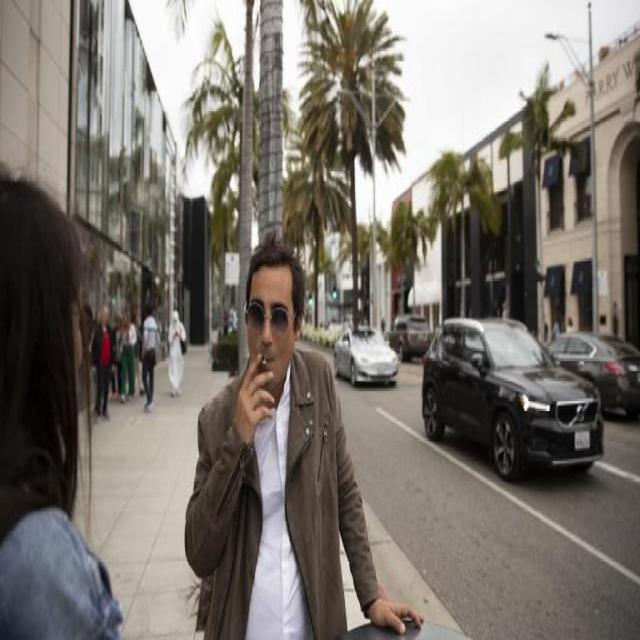smoking: (232, 242, 306, 448)
